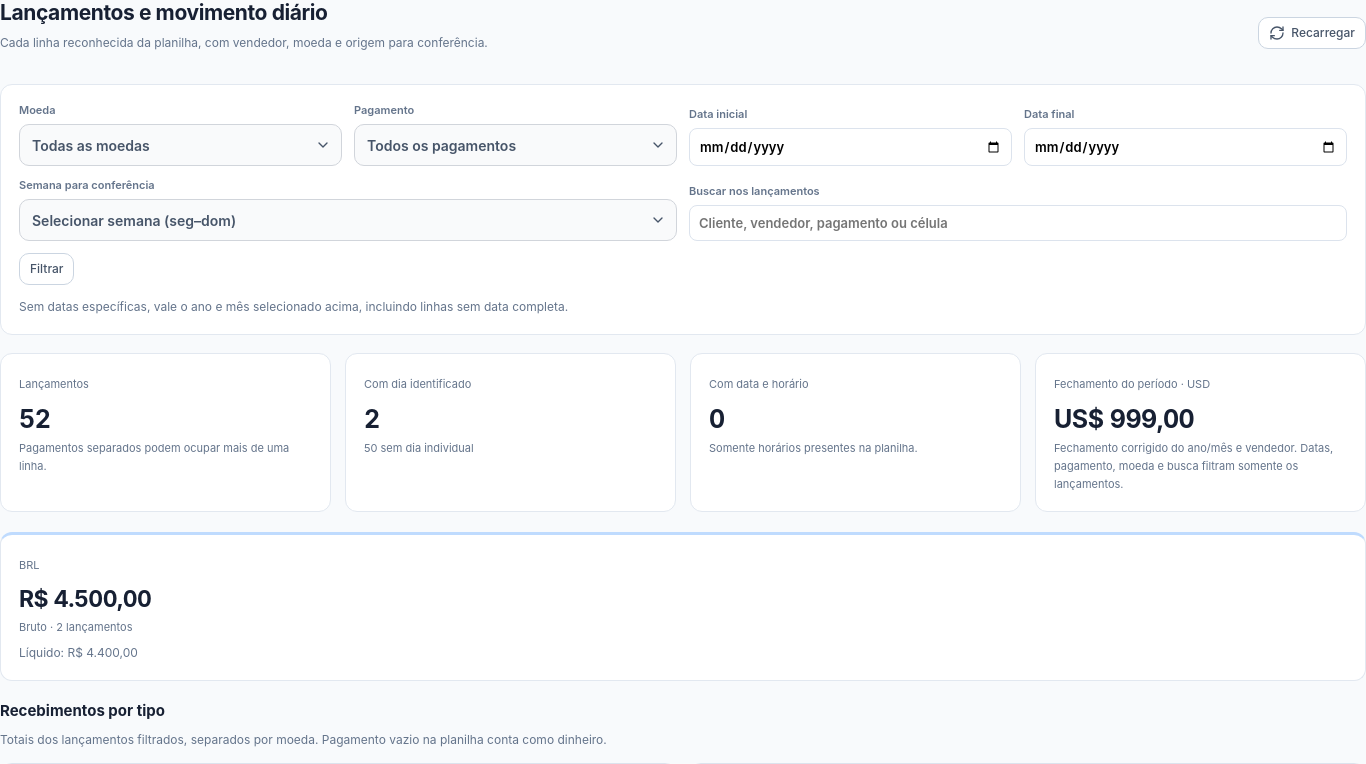
Test: payment filters and receipt summaries › selects Monday to Sunday and highlights the saved net for machine settlement
Click the button "Todos os pagamentos" at point(516, 145), box top-left (355, 125), bottom-right (676, 165)
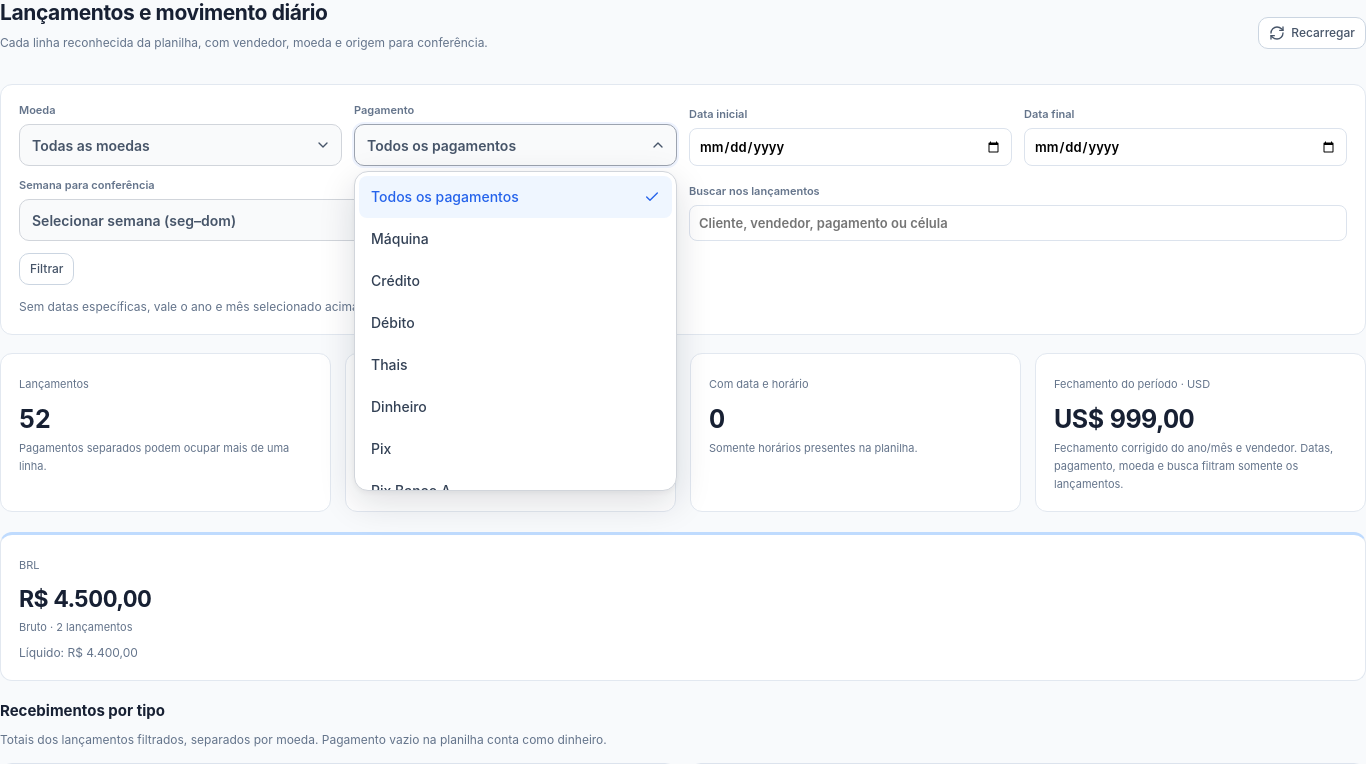
Click the option "Máquina" at point(400, 238), box top-left (359, 218), bottom-right (672, 260)
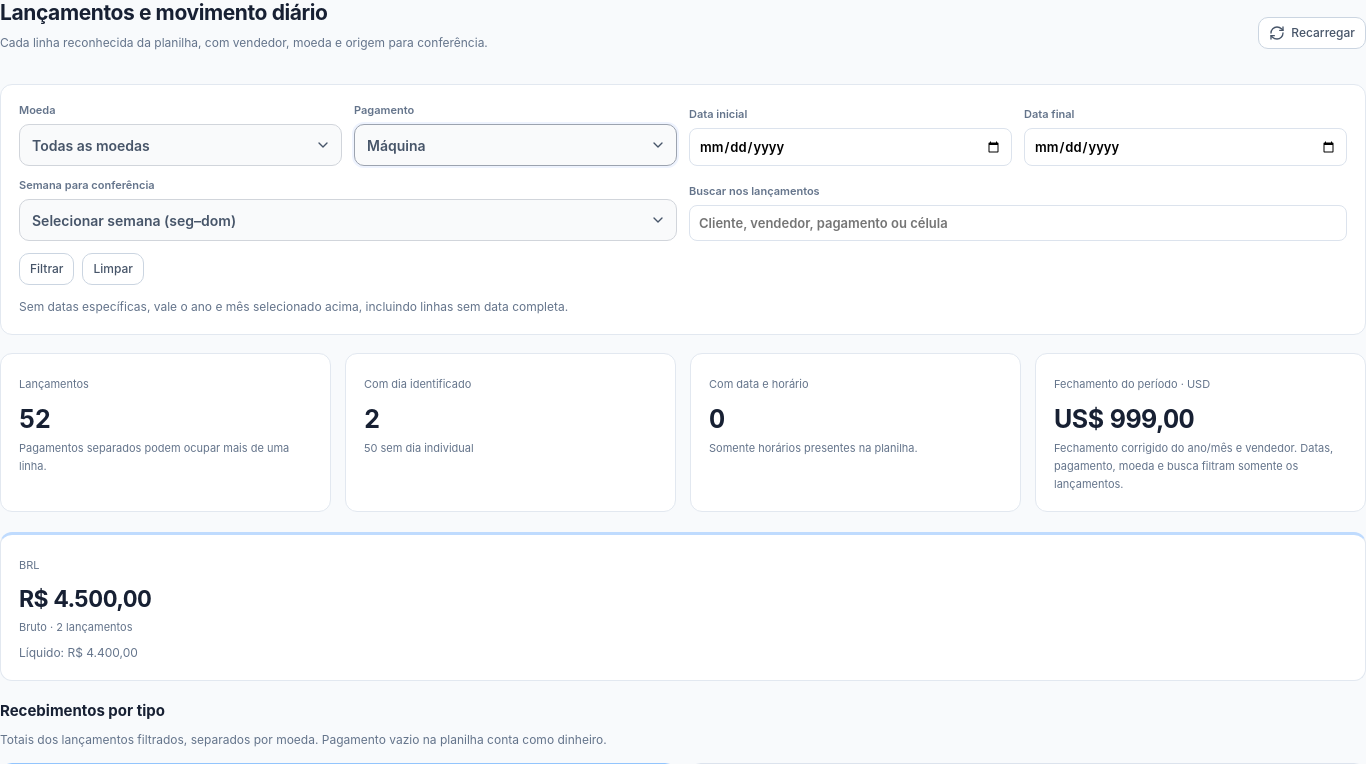
Click the button "Selecionar semana (seg–dom)" at point(134, 220), box top-left (20, 200), bottom-right (676, 240)
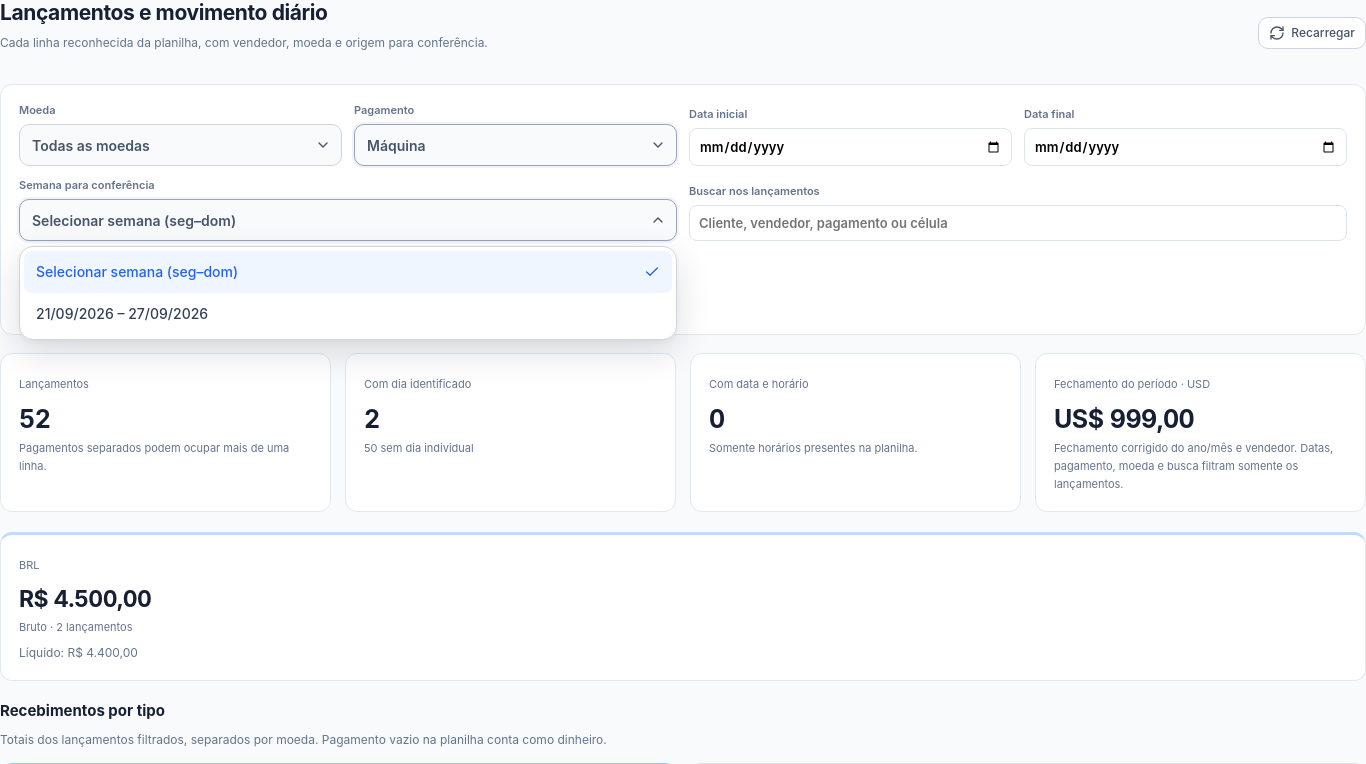
Click the option "21/09/2026 – 27/09/2026" at point(122, 313), box top-left (24, 293), bottom-right (672, 335)
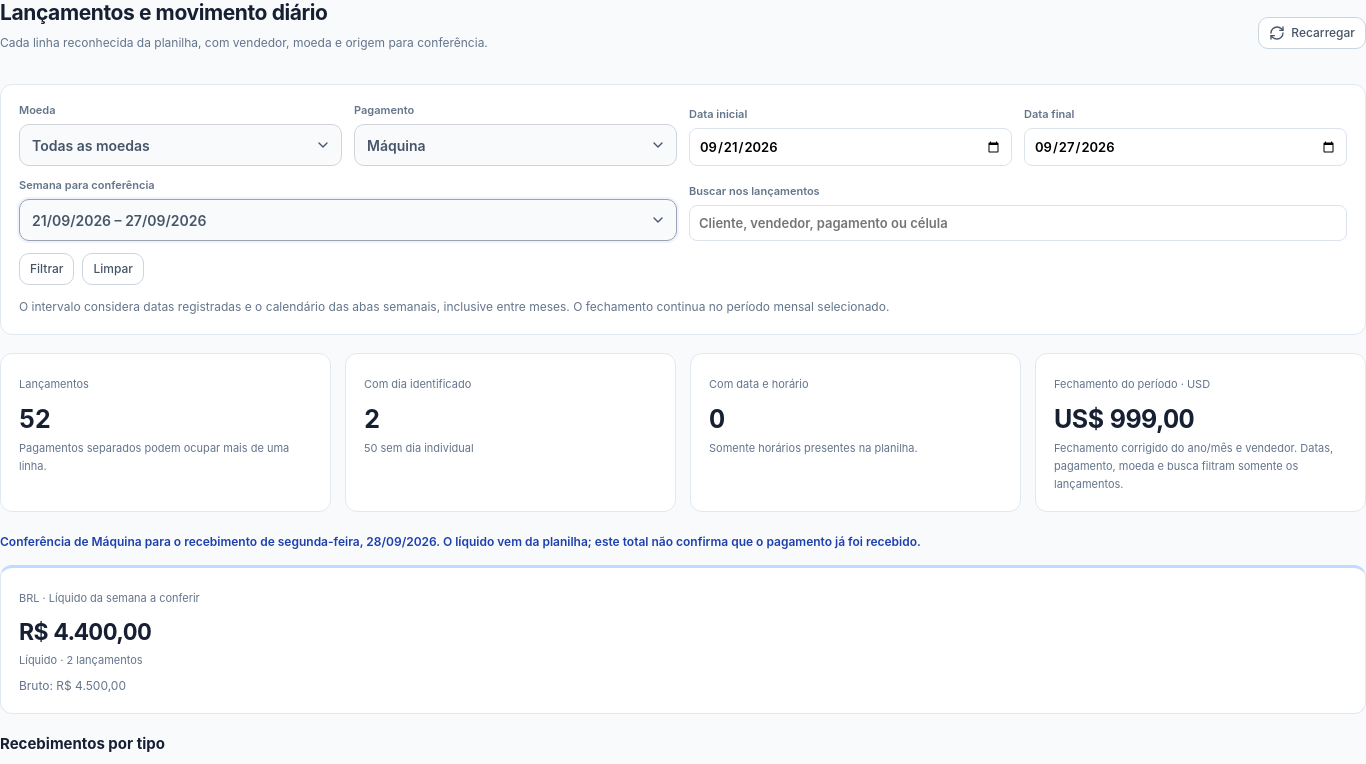
Expected: the element with class "currency-summary" shows "4.500,00", top-left (19, 678), bottom-right (126, 693)
Now the text with class "settlement-summary" shows "28/09/2026", box top-left (0, 534), bottom-right (921, 549)
Now the text "R$ 4.400,00" is shown, box top-left (19, 618), bottom-right (151, 646)
Type "2026-09-22" into the date field labelled "Data inicial" at point(850, 147), box top-left (689, 128), bottom-right (1012, 166)
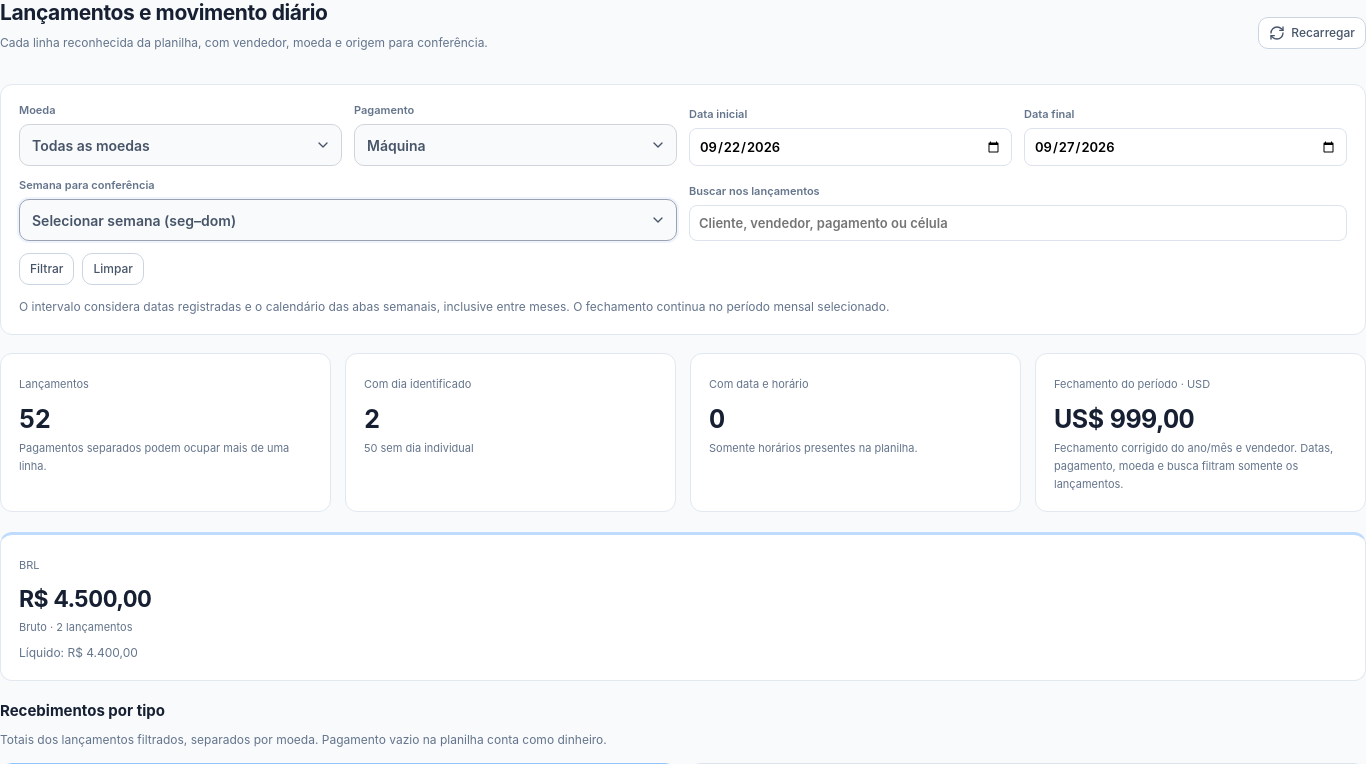
Click the button "Selecionar semana (seg–dom)" at point(134, 220), box top-left (20, 200), bottom-right (676, 240)
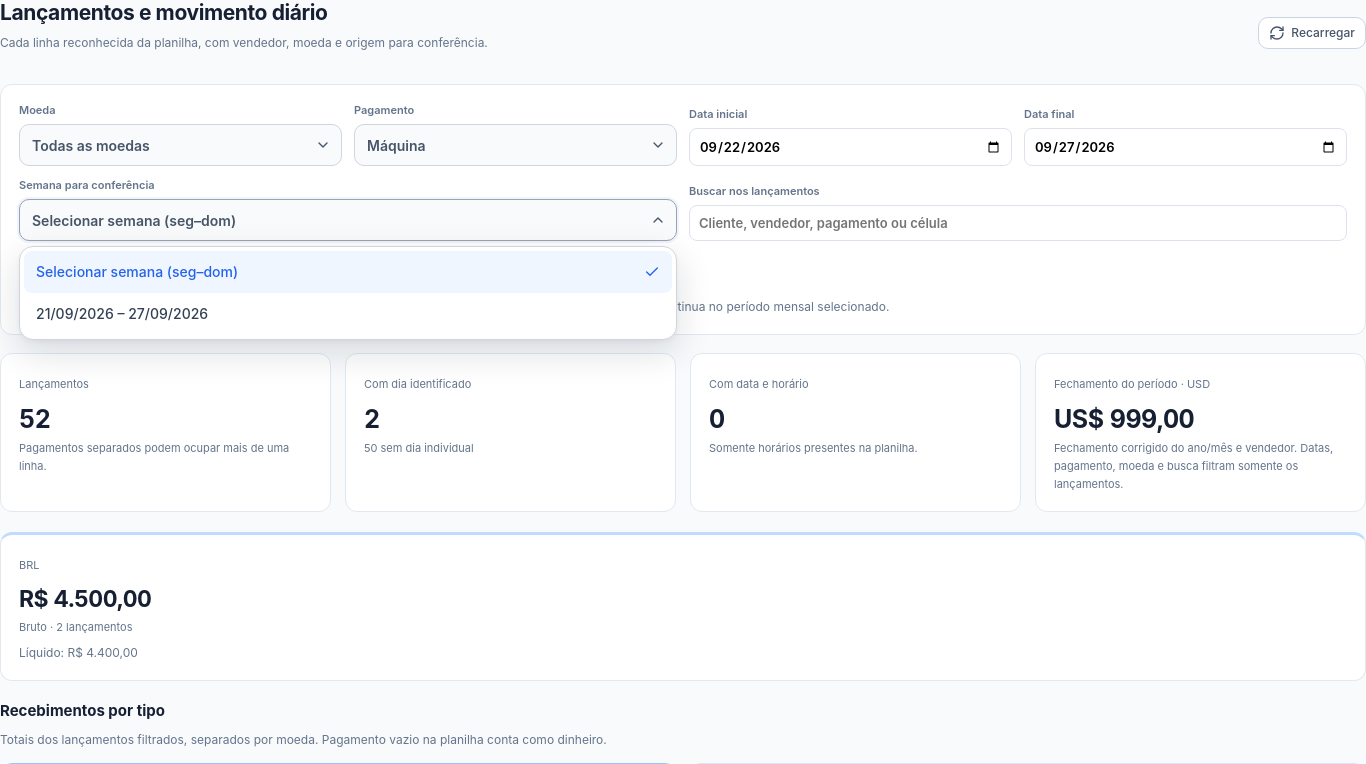
Now the text "R$ 4.500,00" is shown, box top-left (19, 585), bottom-right (151, 613)
Now the option "Selecionar semana (seg–dom)" is empty, box top-left (24, 251), bottom-right (672, 293)
